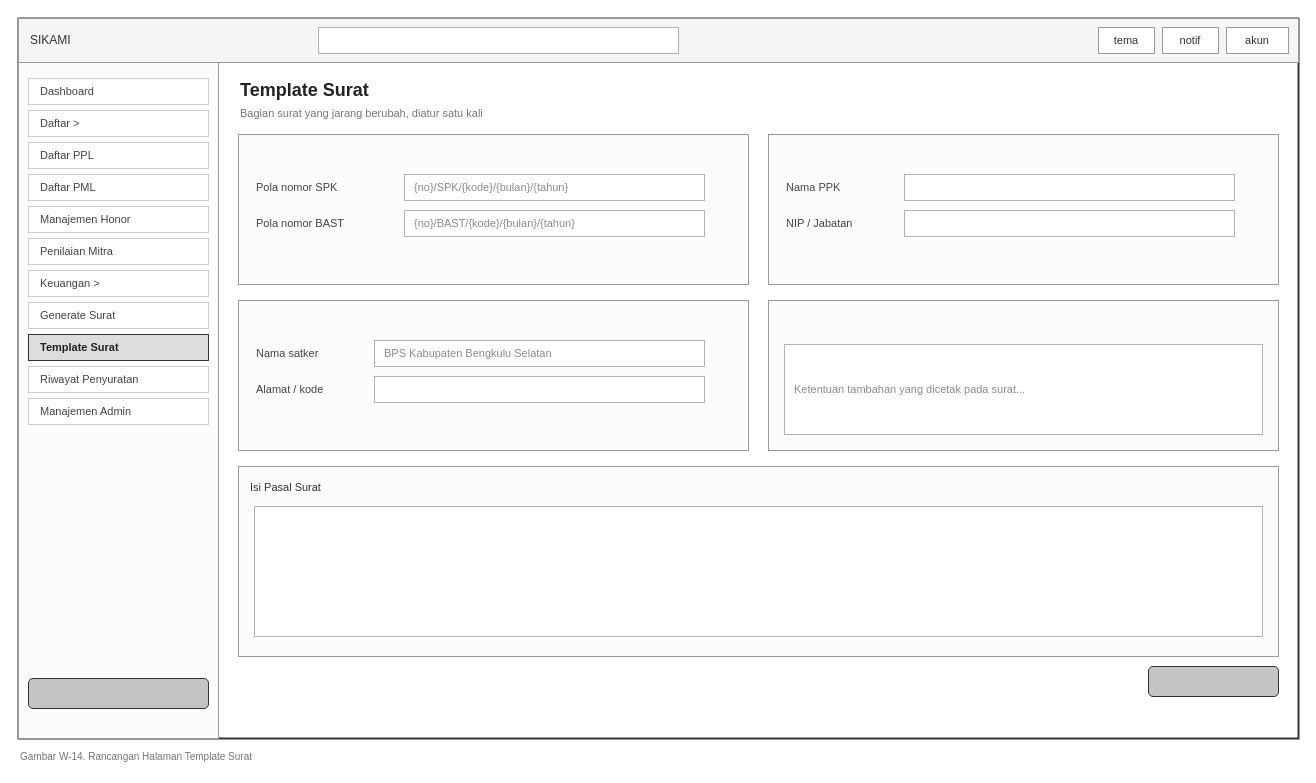
This 1316x783 diagram has some shape labels left out. Here are the shapes that lost their labels. From the top down, the box of each, then its label:
(318, 26, 678, 54): Cari kegiatan, mitra, atau halaman
(238, 134, 748, 284): Identitas Surat
(768, 134, 1278, 284): Pihak Pertama (PPK)
(238, 300, 748, 450): Satuan Kerja
(768, 300, 1278, 450): Ketentuan Lain
(254, 506, 1262, 636): Pasal 1 ... Pasal 2 ... (kotak teks panjang)
(28, 678, 208, 708): + Input Kegiatan
(1148, 666, 1278, 696): Simpan Template
